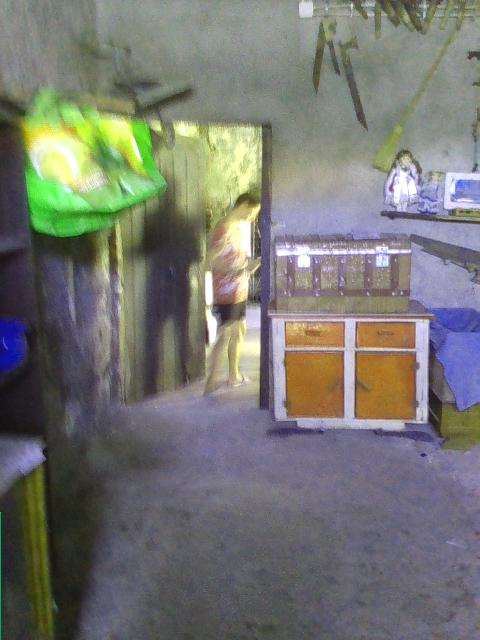semi_door: (98, 111, 276, 414)
